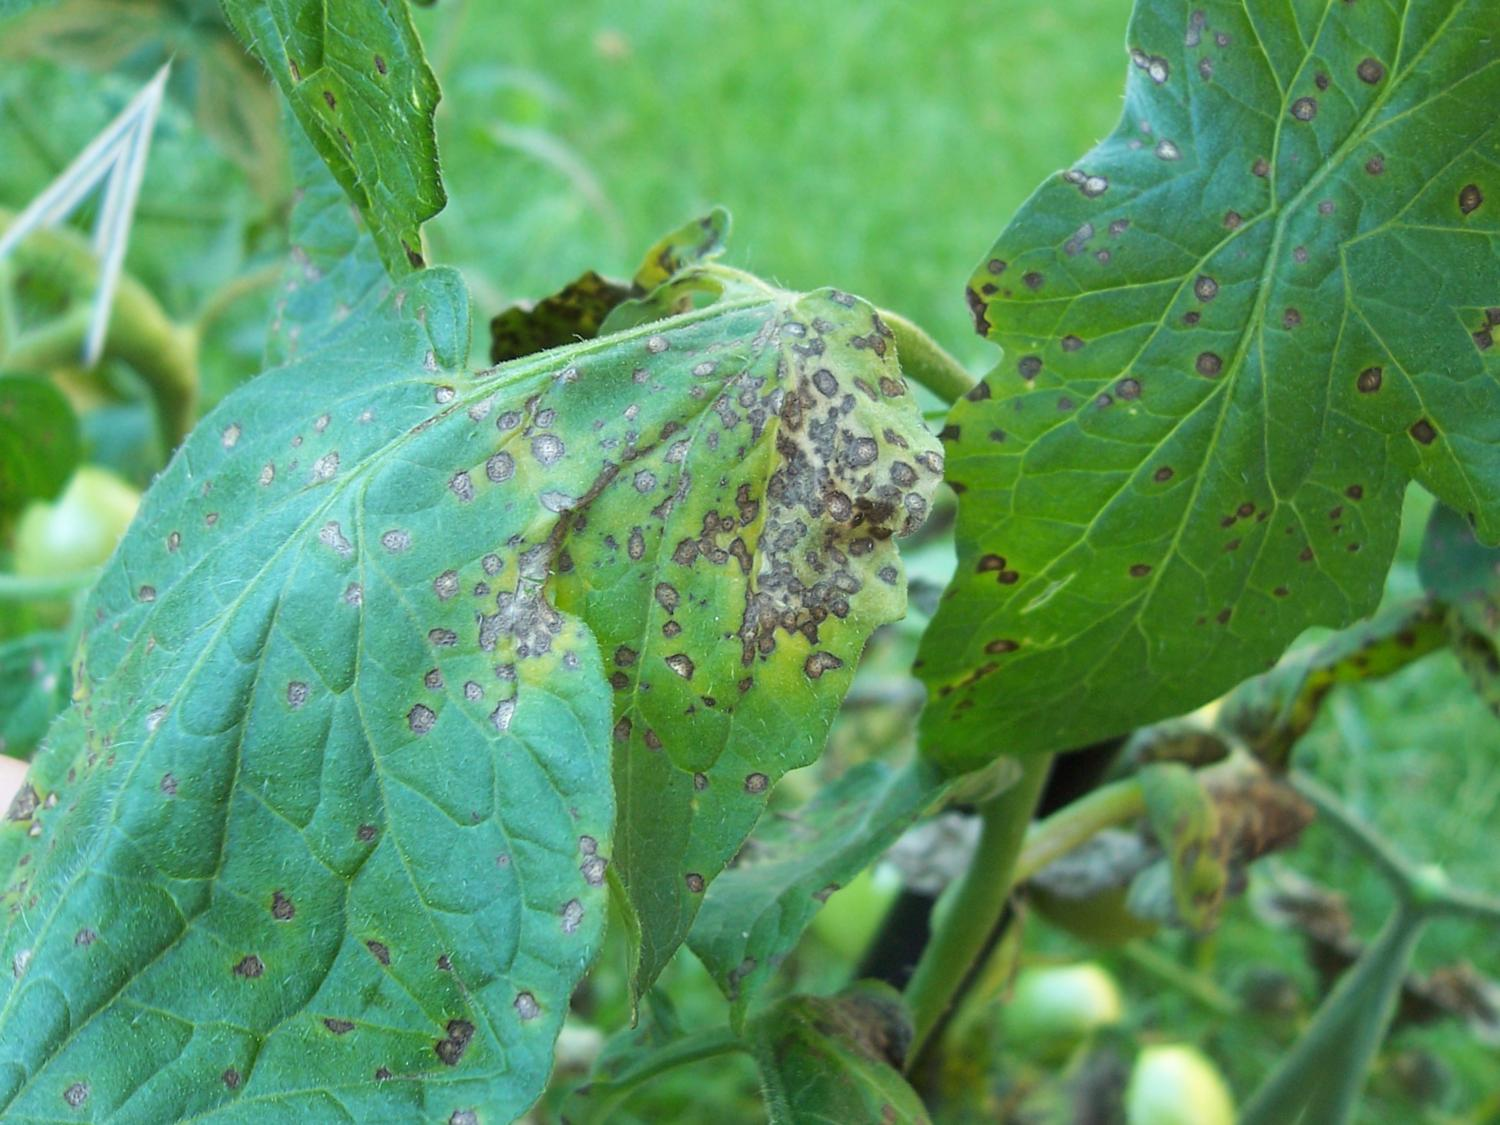Tomato Septoria leaf spot: (0, 37, 1007, 1119), (716, 83, 1500, 976)
